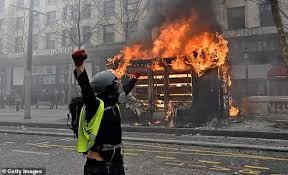fire: (109, 15, 244, 123)
